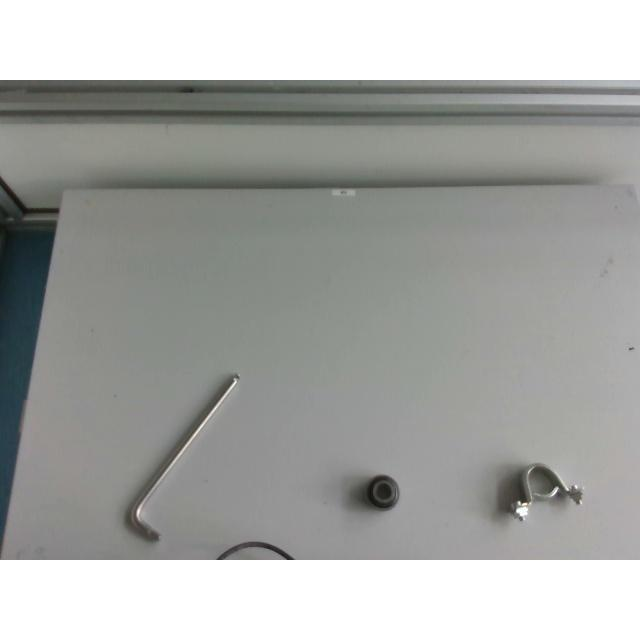AllenKey: (125, 372, 242, 540)
Bearing2: (365, 474, 399, 511)
Housing: (510, 464, 584, 520)
